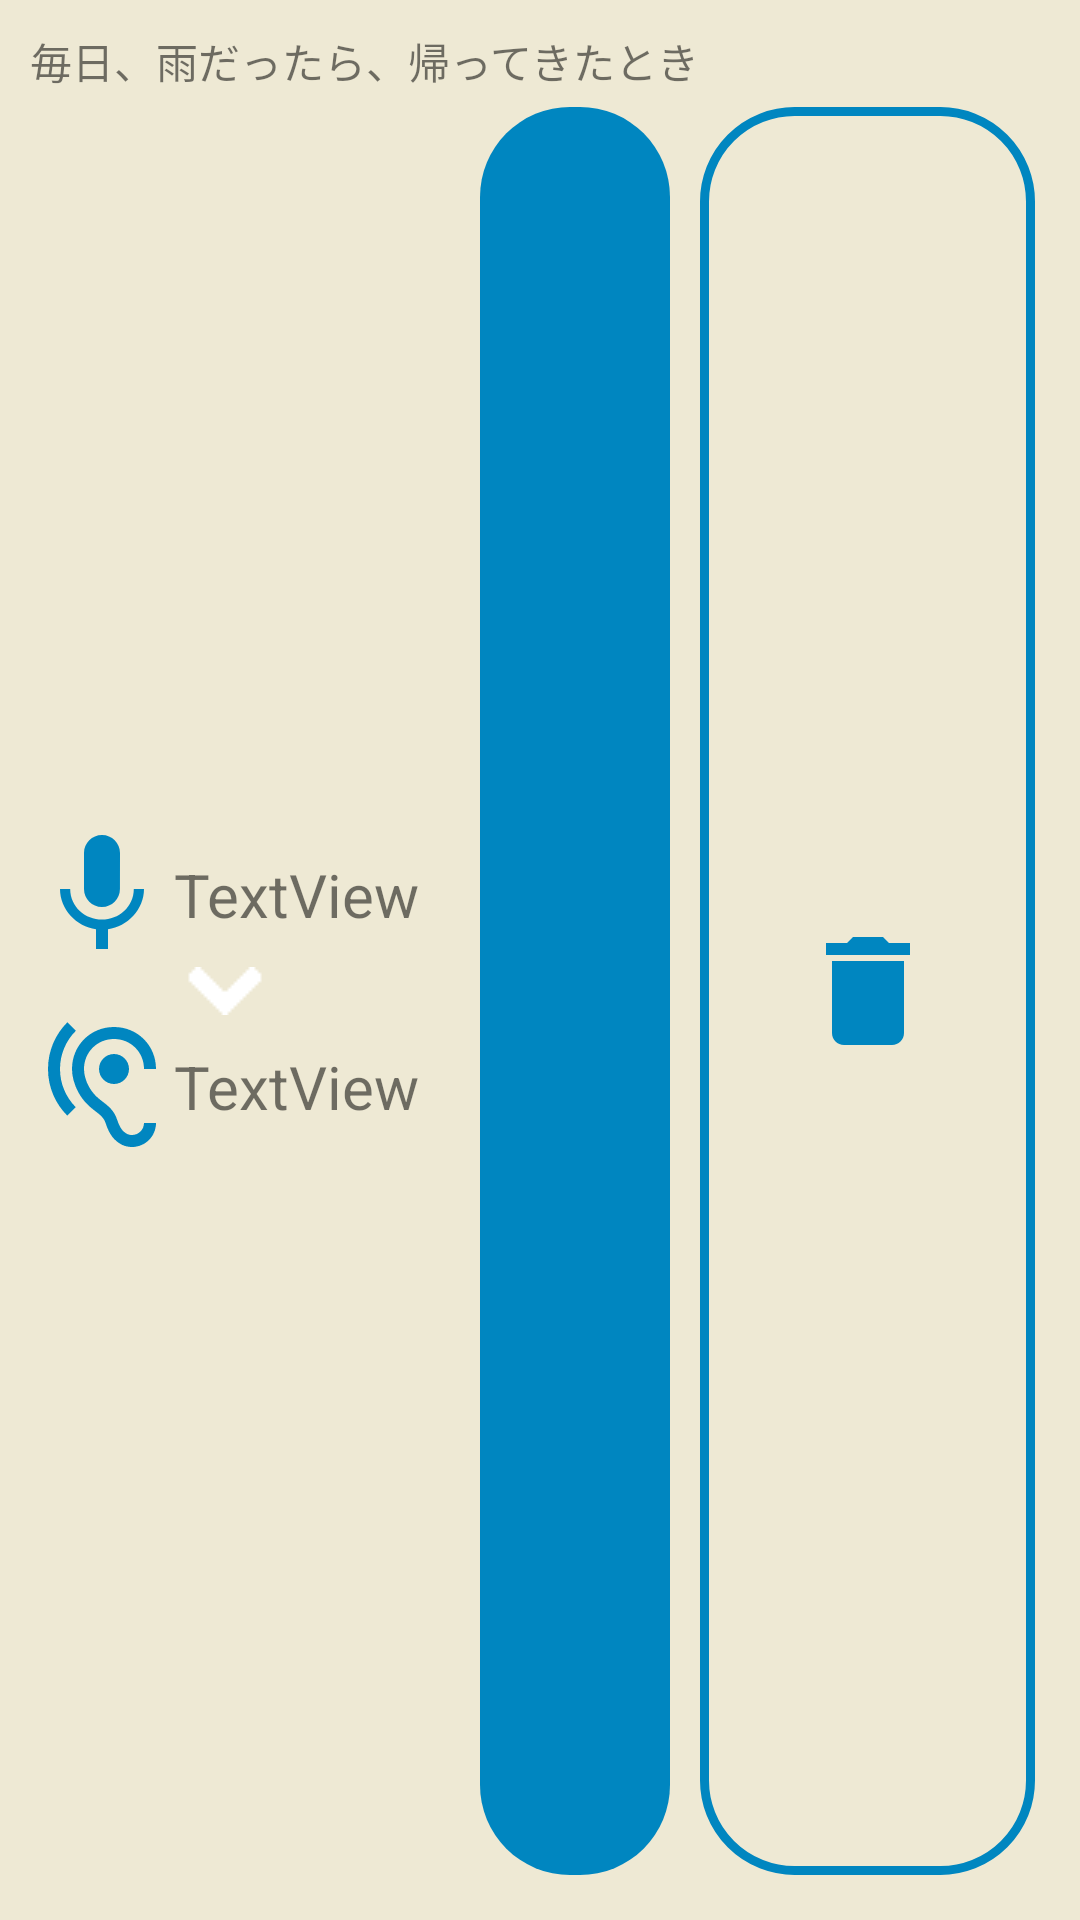

Named icons in this screenshot (1080px×1920px) and their bounding boxes, (left=x1, top=y1, right=x2, bottom=y2):
hearing: (left=48, top=1022, right=156, bottom=1147)
keyboard arrow down: (left=189, top=967, right=261, bottom=1015)
mic: (left=60, top=835, right=144, bottom=949)
